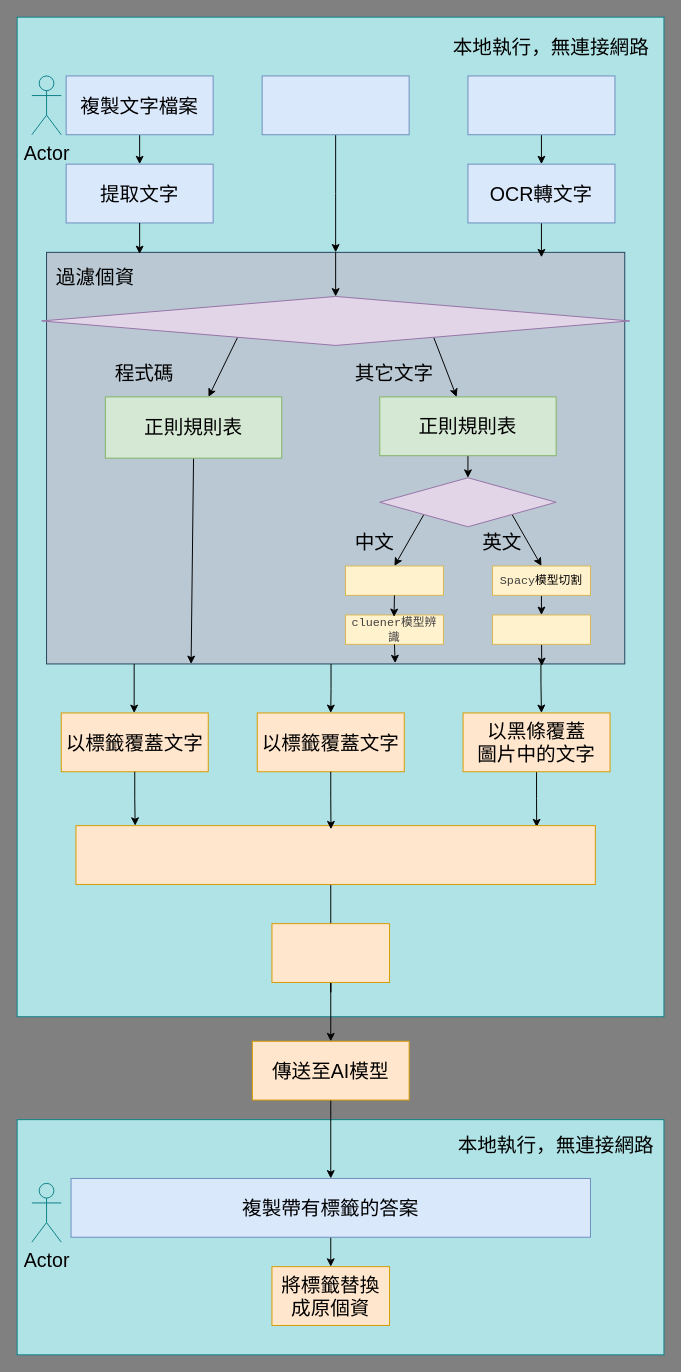
The diagram is 681 pixels wide and 1372 high, and some of its shapes have lost their labels. The shapes that lost their labels are listed below. From the top down, each one's box as (x1, y1, x2, y2) in pixels, then its label:
(261, 75, 409, 135): 複製文字
(467, 75, 615, 135): 複製圖片,PDF
(41, 295, 630, 345): 依 文字 來源之檔案副檔名判斷所屬類別
(379, 477, 556, 527): 文字類型判斷
(344, 565, 443, 595): cluener 模型切割
(491, 614, 590, 644): Presidio模型 辨識
(75, 825, 595, 884): 覆蓋原windos剪貼簿內容
(271, 923, 390, 982): 貼上輸入框
